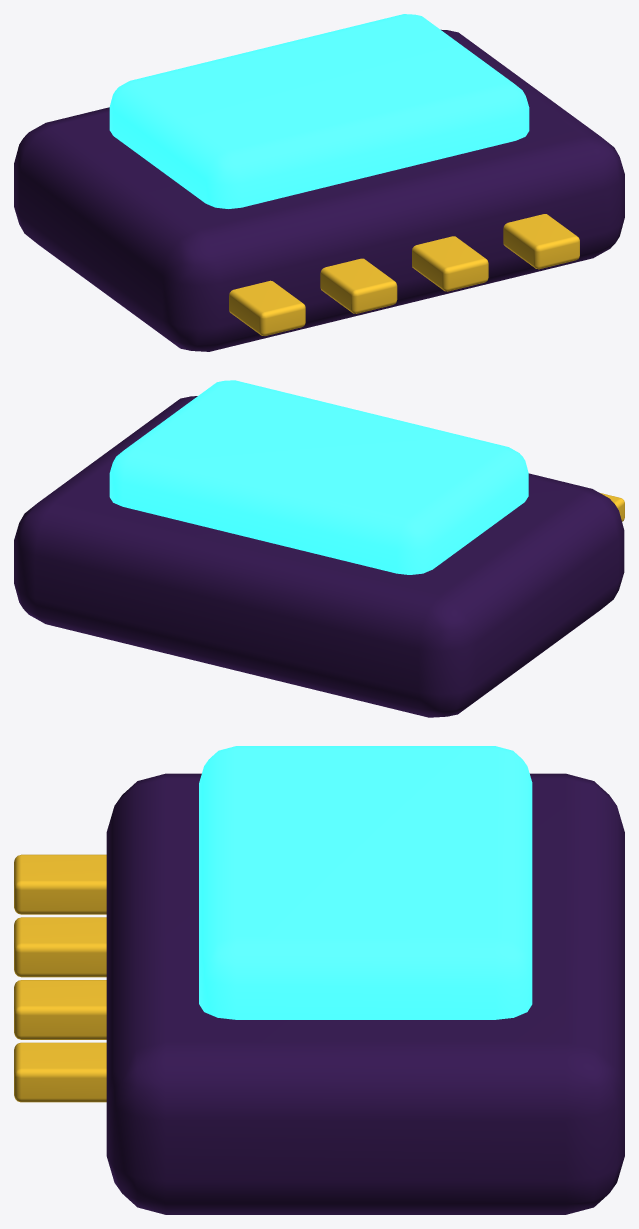
Rendered from SM_AlphaArcade_Prize.fbx.
The picture shows the model from 3 angles, top to bottom: view 1: azimuth 30°, elevation 25°; view 2: azimuth 150°, elevation 25°; view 3: azimuth 270°, elevation 25°; orthographic projection. The views are drawn at different scales.
Parts seen in each view (by area): view 1: SM_AlphaArcade_Prize; view 2: SM_AlphaArcade_Prize; view 3: SM_AlphaArcade_Prize.
Part boxes in pixels (box(x1,y1,x2,y2)): SM_AlphaArcade_Prize: box(14, 14, 624, 351); SM_AlphaArcade_Prize: box(14, 380, 624, 717); SM_AlphaArcade_Prize: box(14, 746, 624, 1214).
Size of the model in its own units: 20 by 16.5 by 7.
